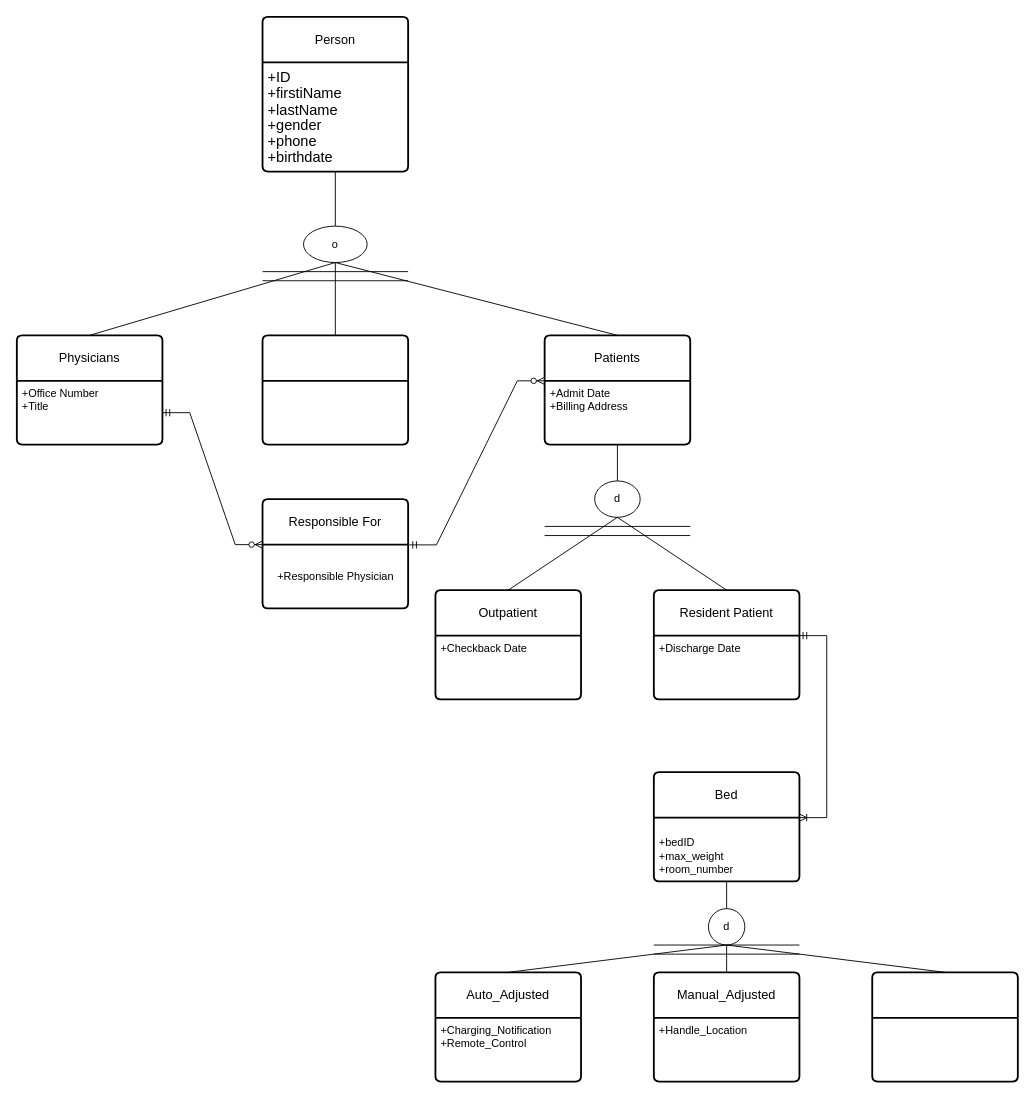
Image size: 1034x1097. Some labels were removed from this diagram. Here are the shapes that lost their labels. From the top down, the centre of each, then its label:
At (x=335, y=389): "Other Personnel".
At (x=944, y=1026): "Non-Adjustable".
